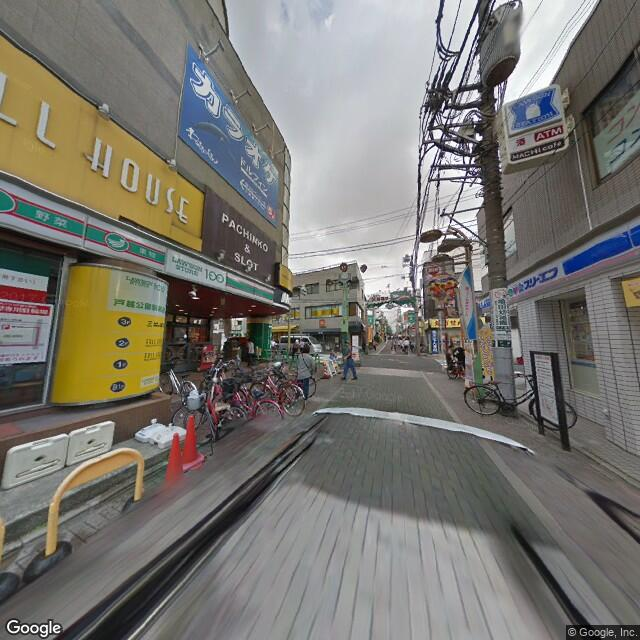lawson: (2, 176, 276, 310), (477, 209, 638, 315), (508, 80, 562, 131)
